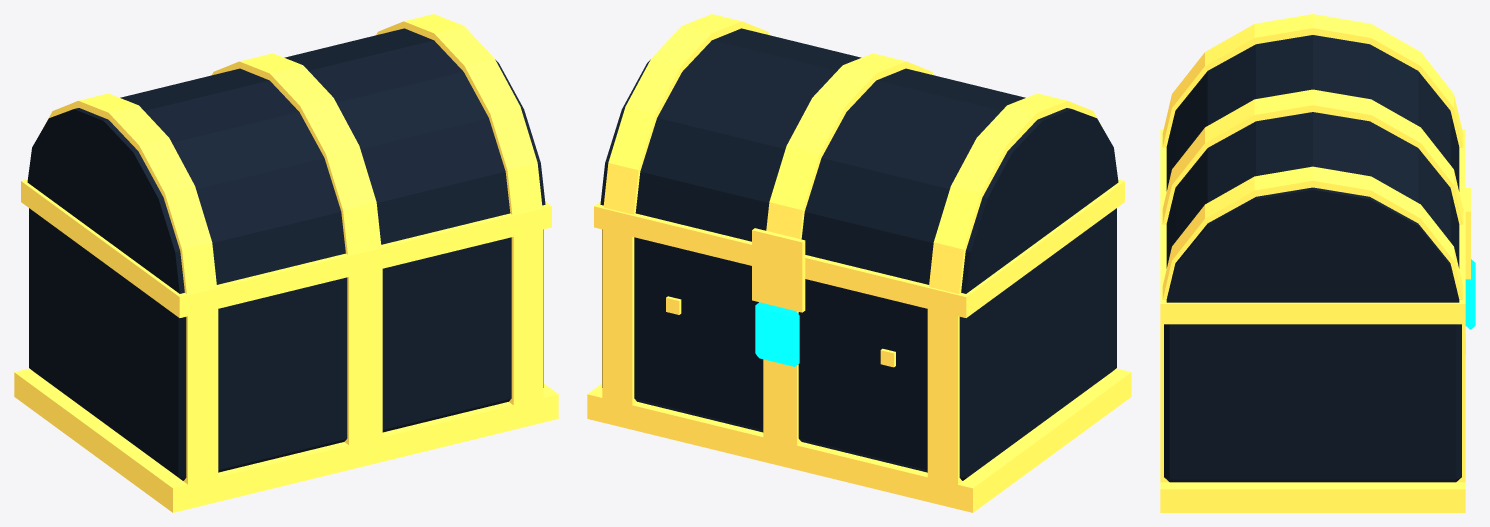
Rendered from chest.glb.
3 renders of one model, left to right at view 1: azimuth 30°, elevation 25°; view 2: azimuth 150°, elevation 25°; view 3: azimuth 270°, elevation 25°, orthographic. The views are drawn at different scales.
Parts seen in each view (by area): view 1: chest_lid, chest_body, chest_foot, chest_seam, chest_strap_C_lid, chest_strap_L_lid, chest_strap_R_lid, chest_strap_C_face, chest_strap_R_face, chest_strap_L_face; view 2: chest_lid, chest_body, chest_foot, chest_seam, chest_strap_C_lid, chest_strap_L_lid, chest_strap_R_lid, chest_strap_R_face, chest_strap_L_face, chest_hasp, chest_strap_C_face, chest_padlock; view 3: chest_lid, chest_body, chest_foot, chest_seam, chest_strap_C_lid, chest_strap_L_lid, chest_strap_R_lid, chest_strap_R_face, chest_padlock, chest_hasp.
Boxes of the visible parts, left/top/right/bottom form: chest_lid: left=27, top=28, right=545, bottom=293; chest_body: left=29, top=208, right=543, bottom=480; chest_foot: left=14, top=368, right=558, bottom=512; chest_seam: left=21, top=179, right=551, bottom=317; chest_strap_C_lid: left=212, top=53, right=381, bottom=254; chest_strap_L_lid: left=44, top=93, right=216, bottom=293; chest_strap_R_lid: left=376, top=14, right=542, bottom=214; chest_strap_C_face: left=344, top=258, right=382, bottom=445; chest_strap_R_face: left=509, top=219, right=543, bottom=405; chest_strap_L_face: left=29, top=298, right=218, bottom=484; chest_lid: left=600, top=28, right=1118, bottom=293; chest_body: left=602, top=208, right=1116, bottom=480; chest_foot: left=587, top=368, right=1131, bottom=512; chest_seam: left=594, top=179, right=1124, bottom=317; chest_strap_C_lid: left=766, top=53, right=933, bottom=239; chest_strap_L_lid: left=929, top=93, right=1101, bottom=293; chest_strap_R_lid: left=603, top=14, right=769, bottom=214; chest_strap_R_face: left=602, top=219, right=636, bottom=405; chest_strap_L_face: left=927, top=298, right=1116, bottom=484; chest_hasp: left=752, top=228, right=805, bottom=312; chest_strap_C_face: left=763, top=311, right=801, bottom=445; chest_padlock: left=755, top=302, right=799, bottom=366; chest_lid: left=1166, top=35, right=1459, bottom=302; chest_body: left=1164, top=324, right=1461, bottom=482; chest_foot: left=1160, top=482, right=1465, bottom=512; chest_seam: left=1160, top=129, right=1465, bottom=324; chest_strap_C_lid: left=1162, top=89, right=1463, bottom=224; chest_strap_L_lid: left=1162, top=14, right=1463, bottom=147; chest_strap_R_lid: left=1162, top=166, right=1463, bottom=299; chest_strap_R_face: left=1160, top=324, right=1465, bottom=482; chest_padlock: left=1465, top=259, right=1475, bottom=329; chest_hasp: left=1465, top=188, right=1470, bottom=279.
Size of the model in its own units: 1.15 by 0.964 by 0.847.
